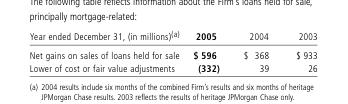table: (28, 28, 316, 73)
table column: (28, 28, 185, 73), (230, 28, 281, 73), (185, 28, 230, 73), (281, 28, 316, 73)
table column header: (28, 28, 316, 45)
table row: (28, 28, 316, 45), (28, 45, 316, 60), (28, 60, 316, 73)
